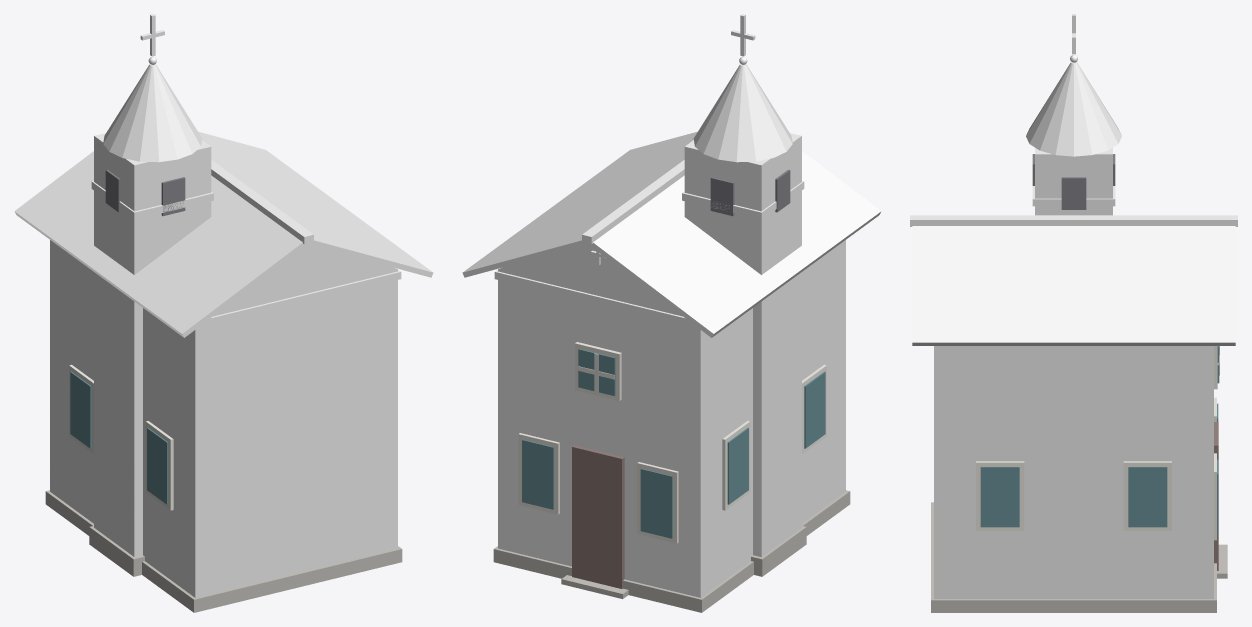
The model's file is igreja.glb.
The picture shows the model from 3 angles, left to right: view 1: azimuth 30°, elevation 25°; view 2: azimuth 150°, elevation 25°; view 3: azimuth 270°, elevation 25°; orthographic projection. The views are drawn at different scales.
Parts seen in each view (by area): view 1: Igreja; view 2: Igreja; view 3: Igreja.
Part boxes in pixels (bbox=[...]): Igreja: bbox=[14, 14, 433, 612]; Igreja: bbox=[462, 14, 881, 612]; Igreja: bbox=[910, 14, 1237, 612].
Bounding box in the file's own units: 3.6 × 7.32 × 4.22.
